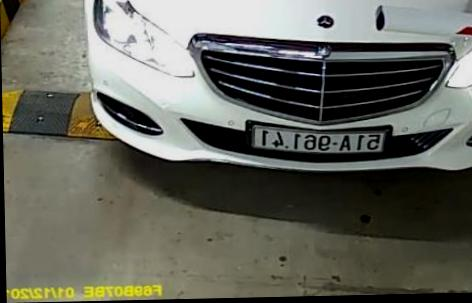License_Plate: (247, 123, 390, 156)
